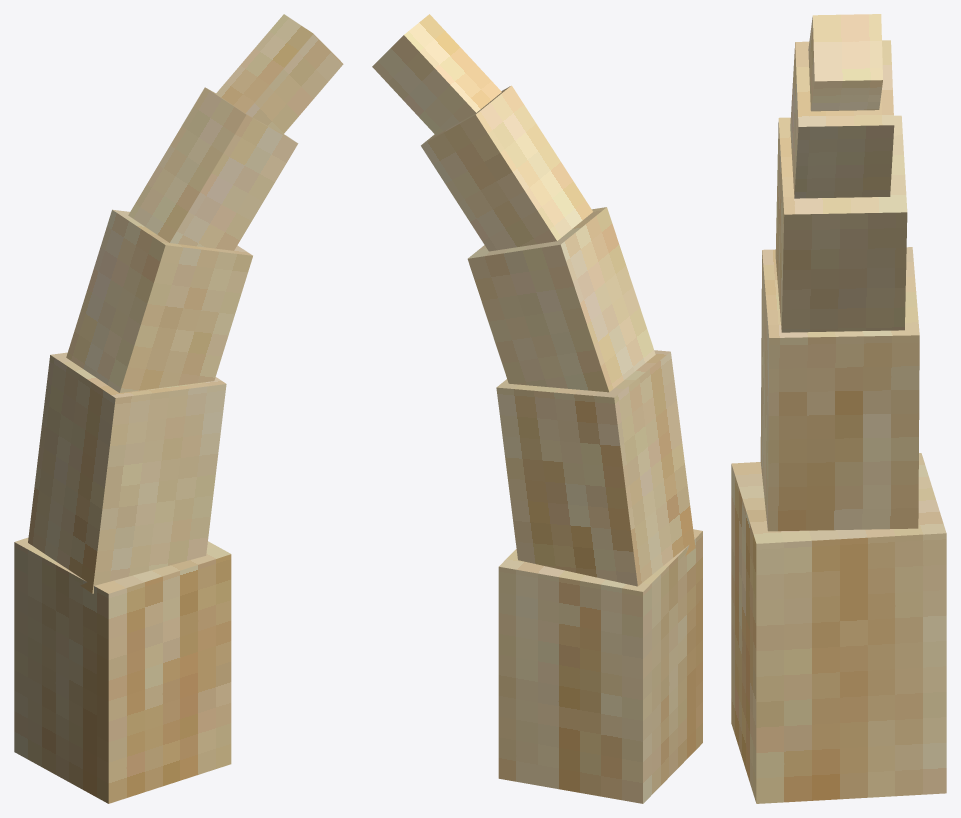
File: horn_s_r.obj
3 views of the same model, side by side, from view 1: azimuth 30°, elevation 25°; view 2: azimuth 150°, elevation 25°; view 3: azimuth 270°, elevation 25° (orthographic). The views are drawn at different scales.
Parts seen in each view (by area): view 1: cube; view 2: cube; view 3: cube.
Part boxes in pixels (x1=…): cube: x1=14, y1=14, x2=343, y2=803; cube: x1=372, y1=14, x2=702, y2=803; cube: x1=731, y1=14, x2=946, y2=803.
Size of the model in its own units: 0.912 by 2.1 by 0.4795.
